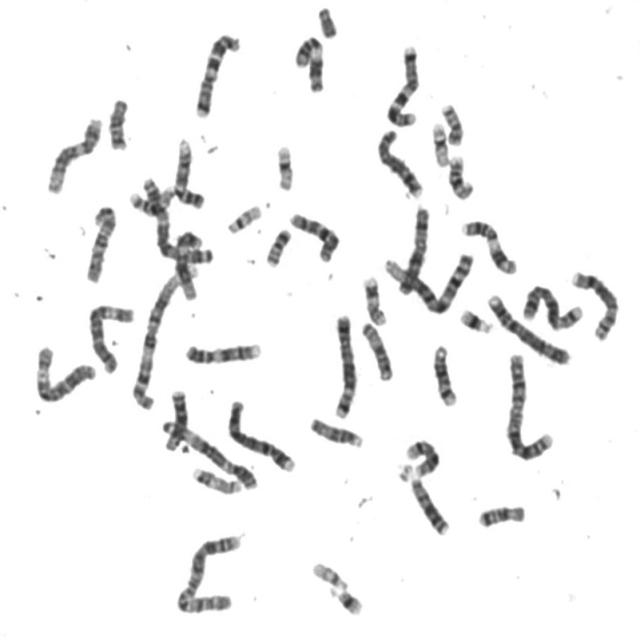A1: (127, 257, 201, 411), (379, 244, 477, 316)
A2: (170, 527, 245, 616), (500, 347, 556, 461)
A3: (157, 412, 259, 492), (139, 171, 211, 264)
B4: (482, 288, 571, 367), (223, 394, 297, 474)
B5: (517, 280, 586, 332), (328, 308, 358, 420)
C10: (284, 206, 342, 264), (80, 200, 119, 284)
C11: (455, 214, 518, 277), (289, 30, 327, 94)
C12: (41, 111, 104, 195), (171, 225, 202, 301)
C6: (30, 340, 98, 405), (82, 298, 137, 375)
C7: (189, 27, 243, 120), (381, 40, 422, 128)
C8: (566, 264, 621, 342), (372, 124, 425, 199)
C9: (169, 132, 207, 210), (179, 336, 264, 366)
D13: (404, 469, 451, 537), (160, 384, 189, 453)
D14: (428, 338, 460, 408), (400, 434, 441, 478)
D15: (356, 316, 396, 382), (305, 411, 365, 449)
E16: (125, 180, 177, 217), (444, 151, 476, 201)
E17: (187, 461, 244, 495), (358, 271, 388, 327)
E18: (472, 499, 527, 530), (103, 92, 131, 152)
F19: (426, 117, 452, 168), (271, 140, 296, 192)
F20: (260, 223, 294, 268), (436, 97, 465, 147)
G21: (327, 581, 365, 617), (456, 304, 496, 336)
G22: (222, 199, 264, 235), (307, 556, 350, 591)
X: (392, 200, 432, 296)
Y: (313, 1, 340, 39)
